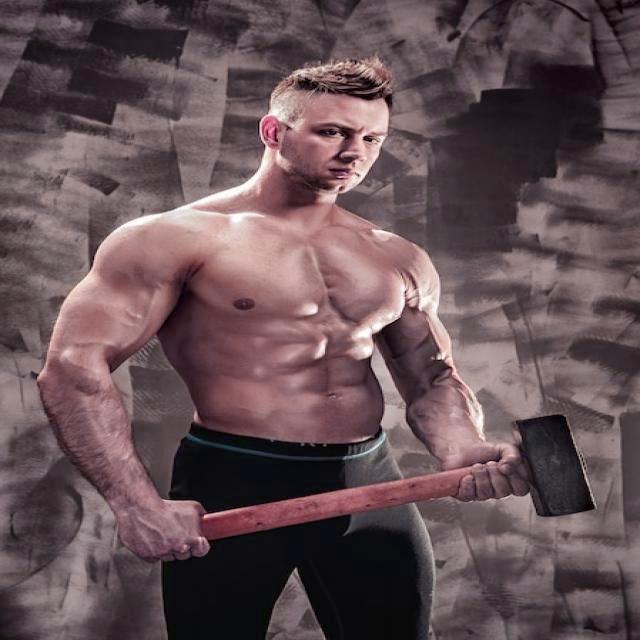hammer: (138, 404, 610, 571)
